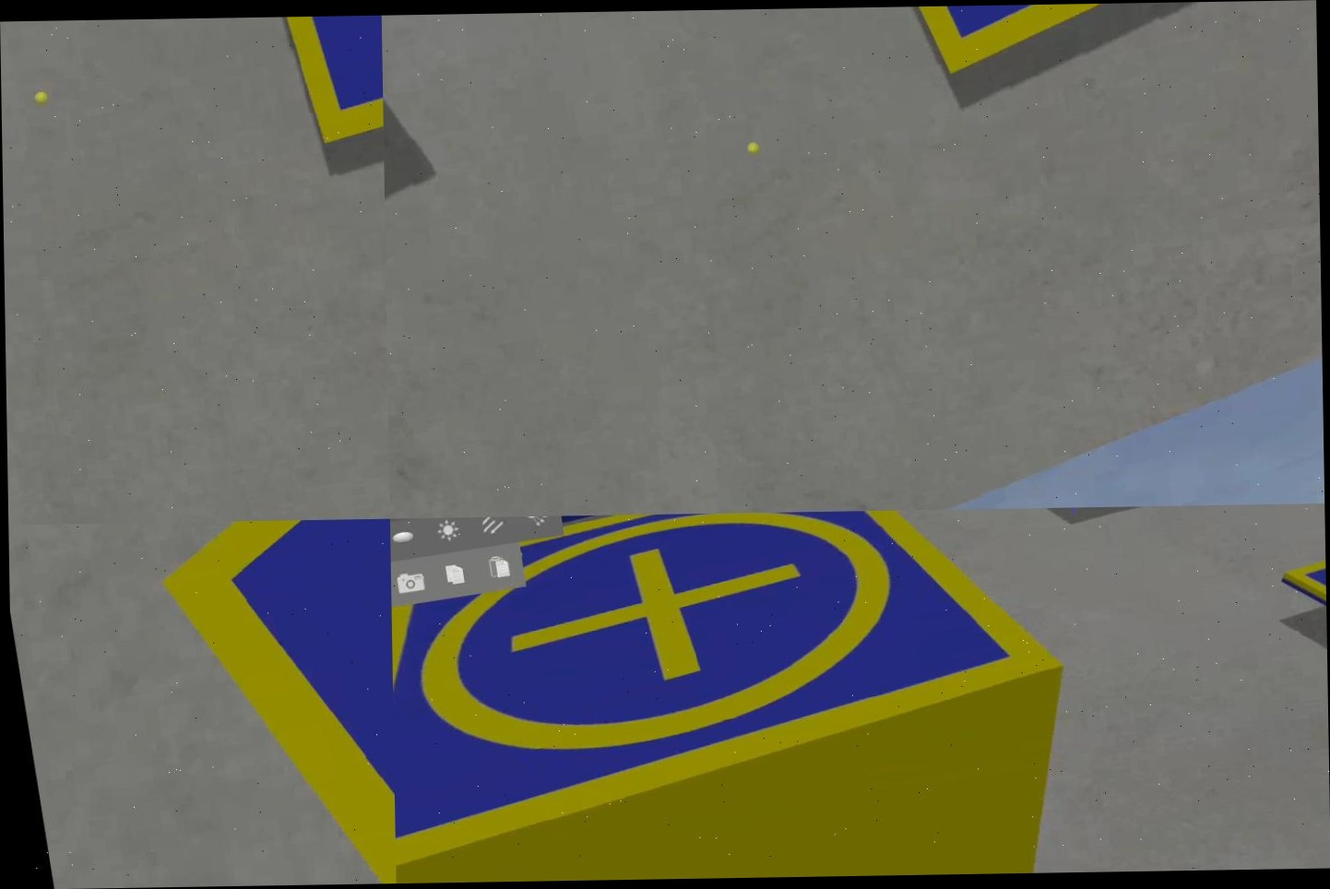small_base: (390, 507, 1084, 883), (99, 519, 397, 887), (1276, 522, 1327, 726)
